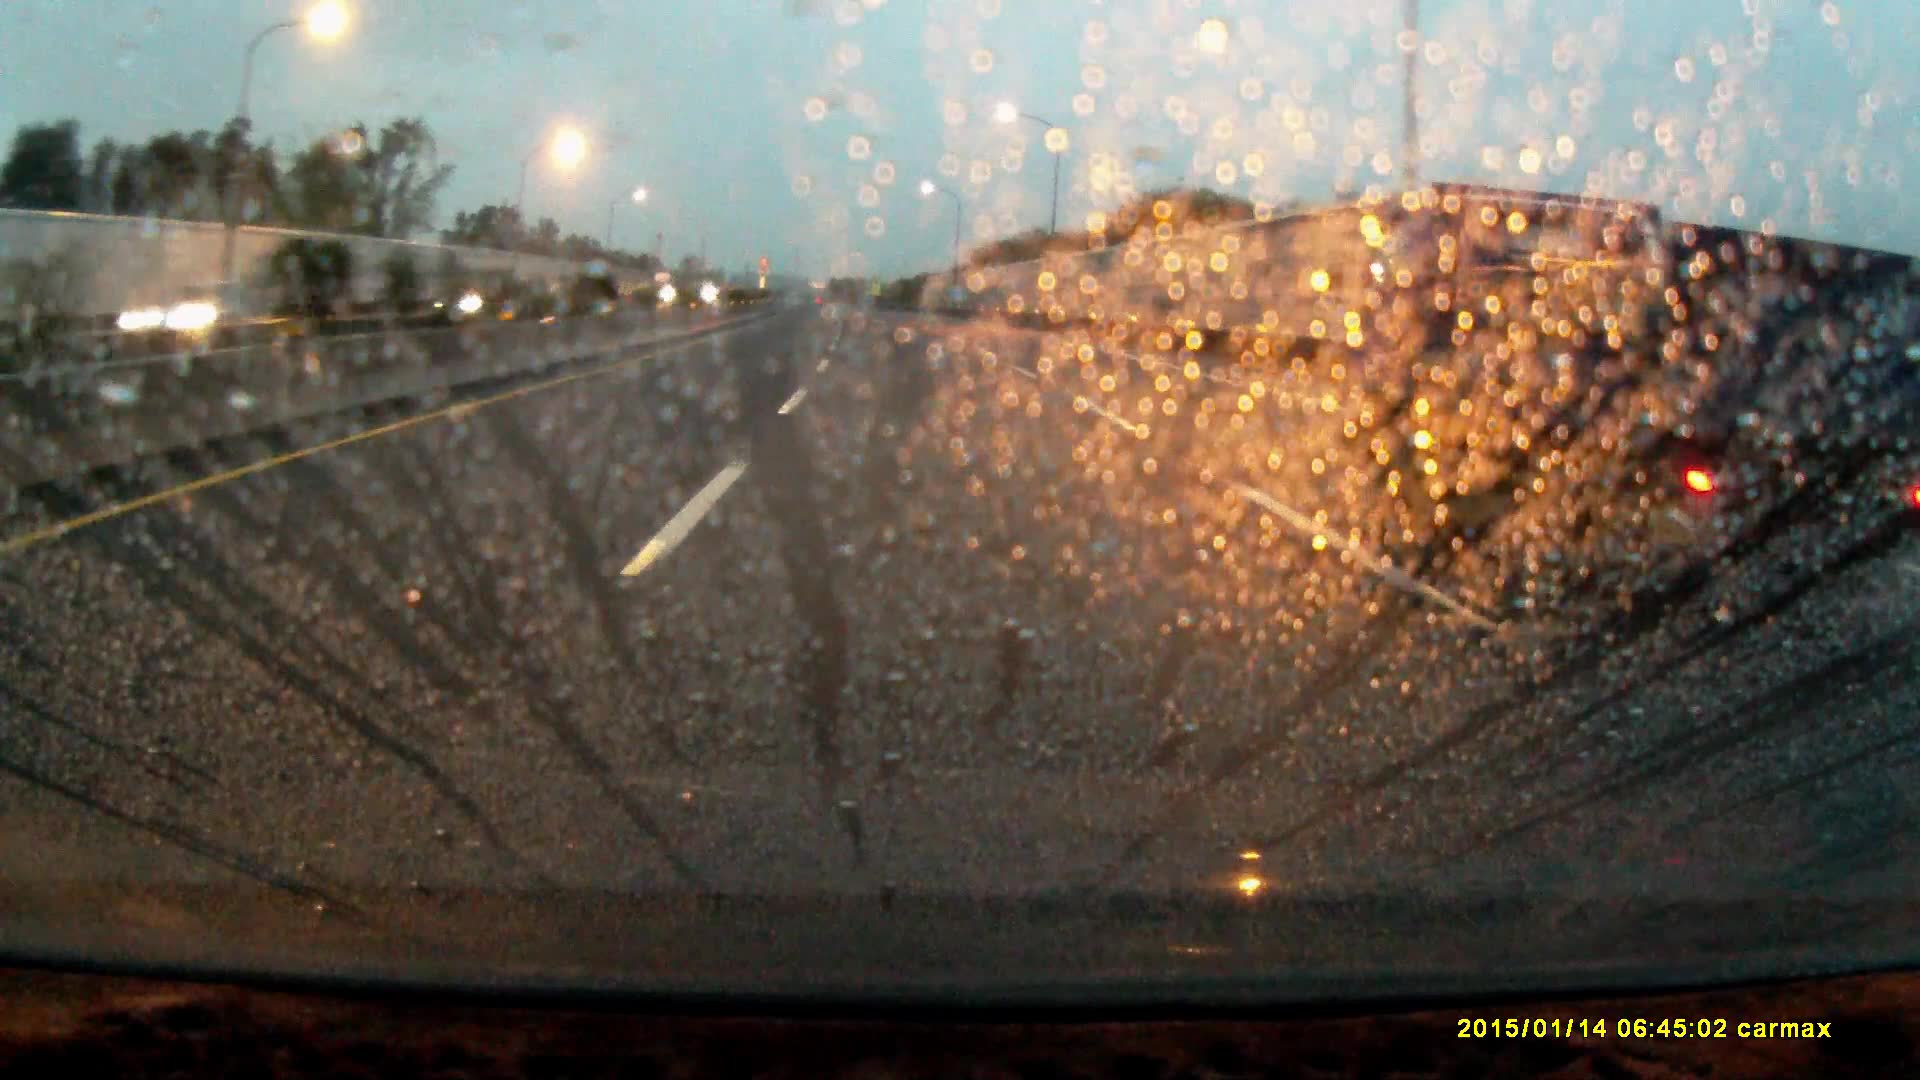vehicle: (1317, 187, 1909, 620), (115, 277, 258, 332), (434, 266, 513, 316), (654, 270, 678, 301)
